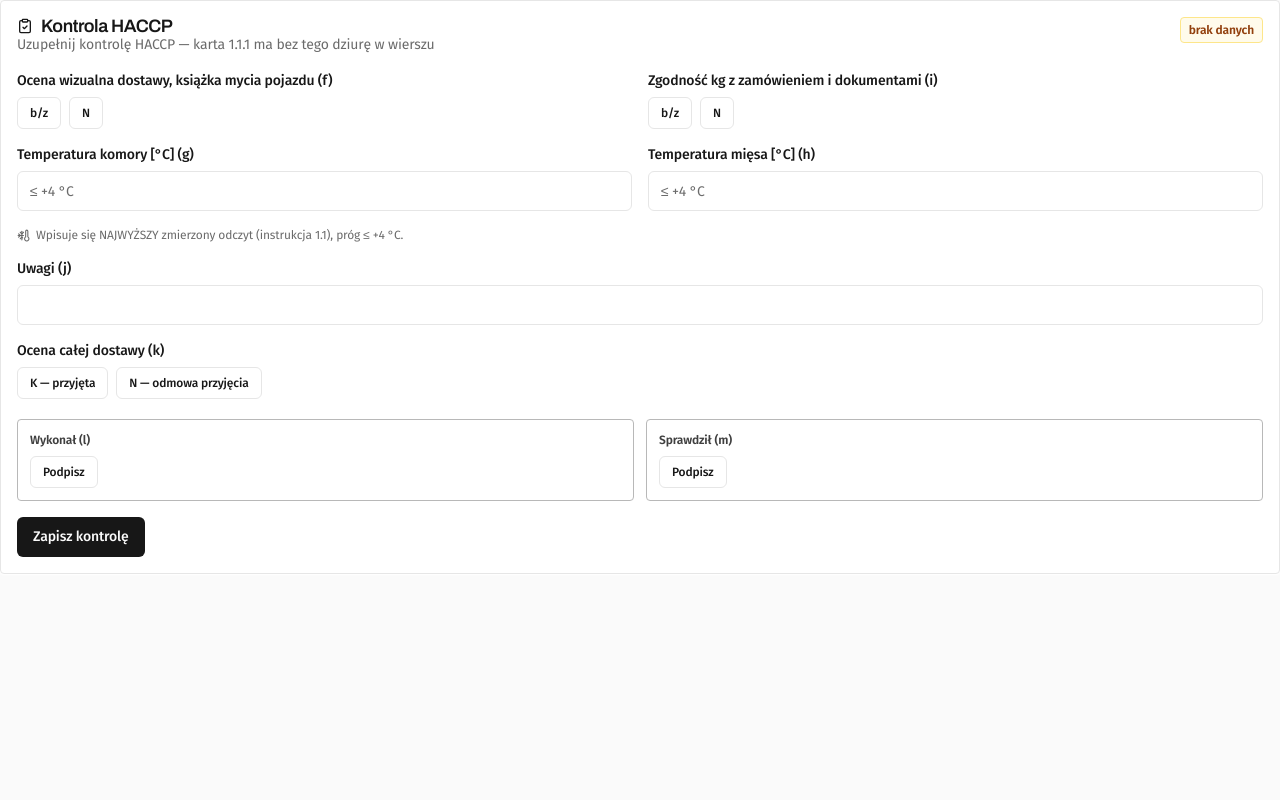
Scenario: ReceptionCheckCard — podpis a niezapisane zmiany › po zapisaniu podpis znów jest możliwy
Type "2,3" into the field labelled "Temperatura mięsa [°C] (h)" at {"x": 956, "y": 191}, box top-left (648, 171), bottom-right (1263, 211)
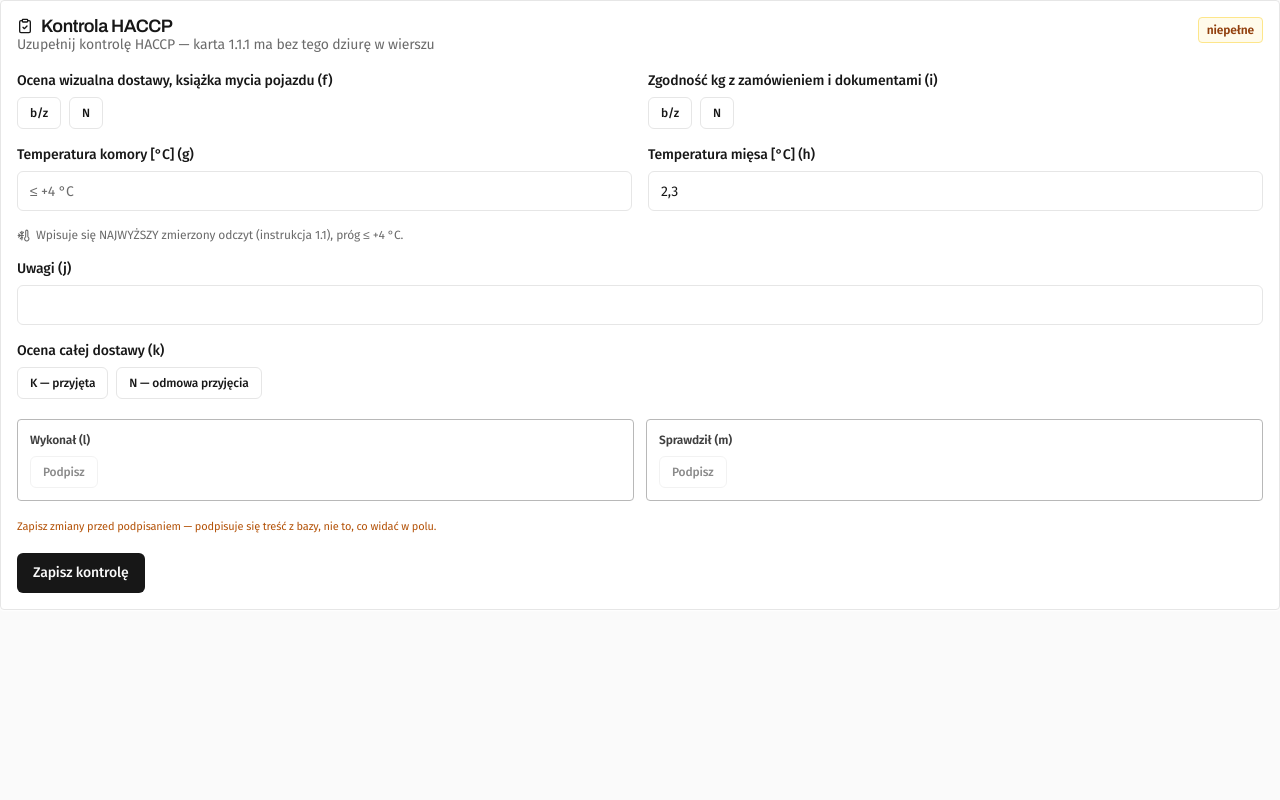
Click the button "Zapisz kontrolę" at {"x": 81, "y": 573}, box top-left (17, 553), bottom-right (145, 593)
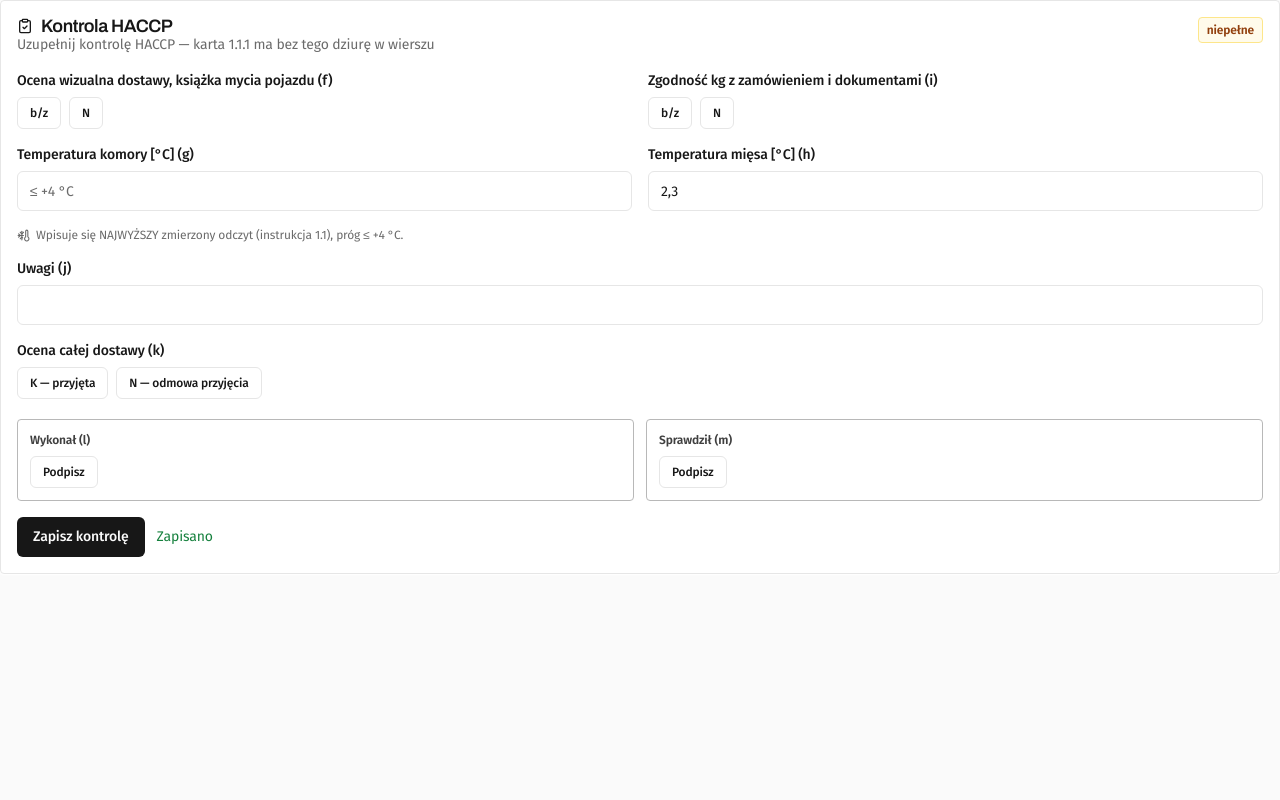
Expected: the button "Podpisz" below "Wykonał (l)" is enabled, top-left (30, 456), bottom-right (98, 488)
